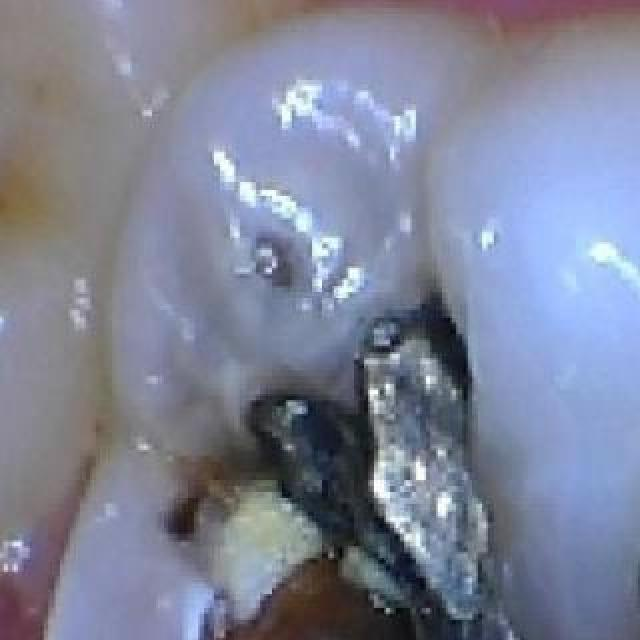cavities: (140, 88, 640, 640)
